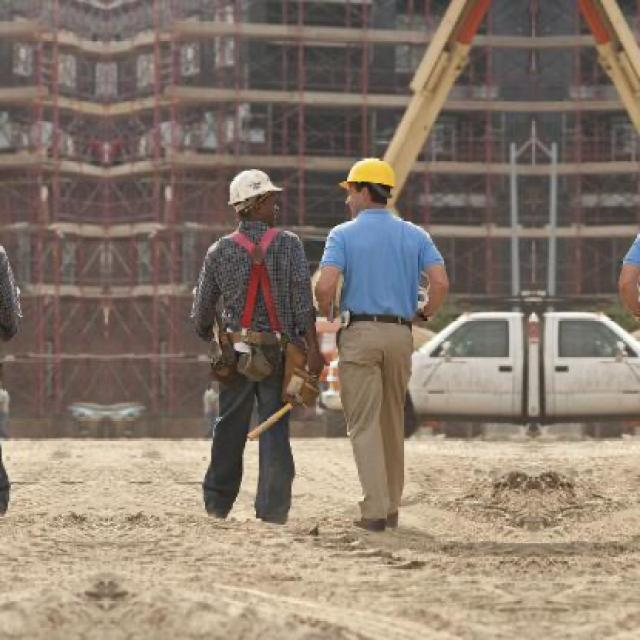con casco: (204, 151, 314, 248), (342, 147, 406, 251)
